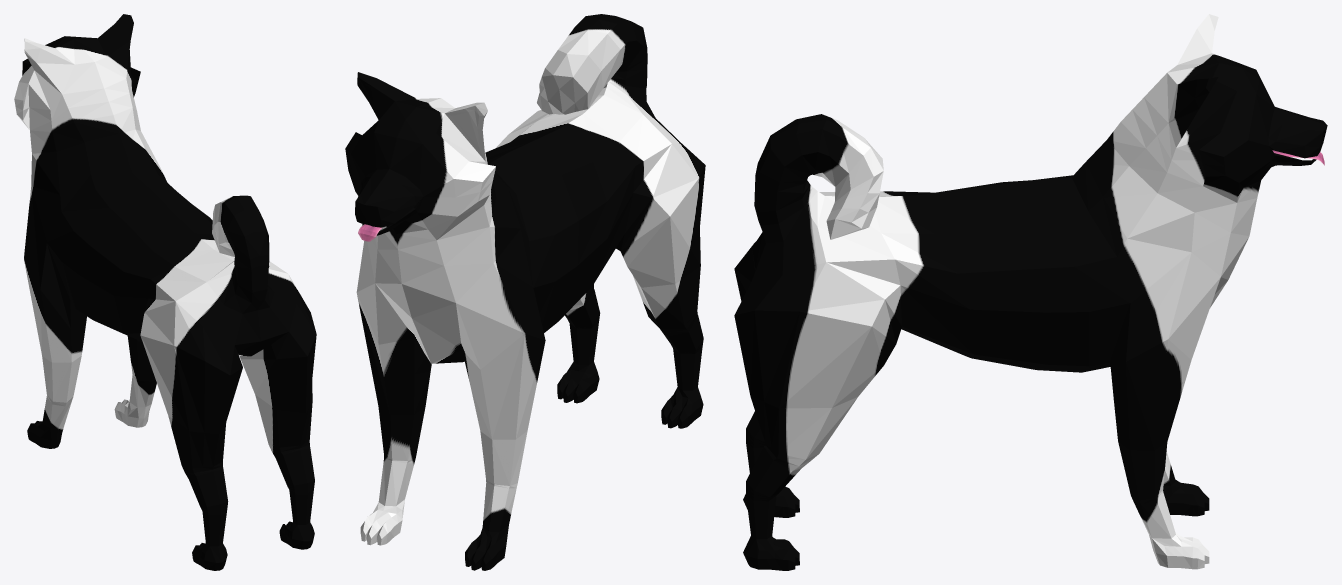
Rendered from dog_modified.gltf.
3 views of the same model, side by side, from view 1: azimuth 30°, elevation 25°; view 2: azimuth 150°, elevation 25°; view 3: azimuth 270°, elevation 25° (orthographic). The views are drawn at different scales.
Parts seen in each view (by area): view 1: mesh_2; view 2: mesh_2; view 3: mesh_2.
Boxes of the visible parts, x1,y1,x2,y2 form: mesh_2: (14,14,316,570); mesh_2: (345,14,705,570); mesh_2: (734,14,1327,570).
Bounding box in the file's own units: 3.38 × 8.74 × 9.55.
Materials: 2 (2 with a texture image).
